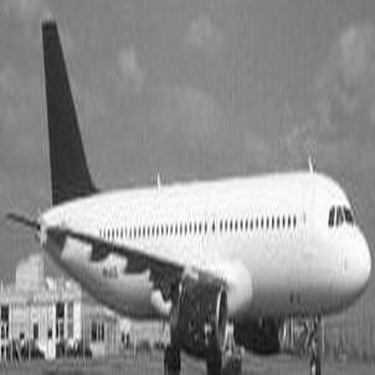airplane: (1, 3, 369, 369)
